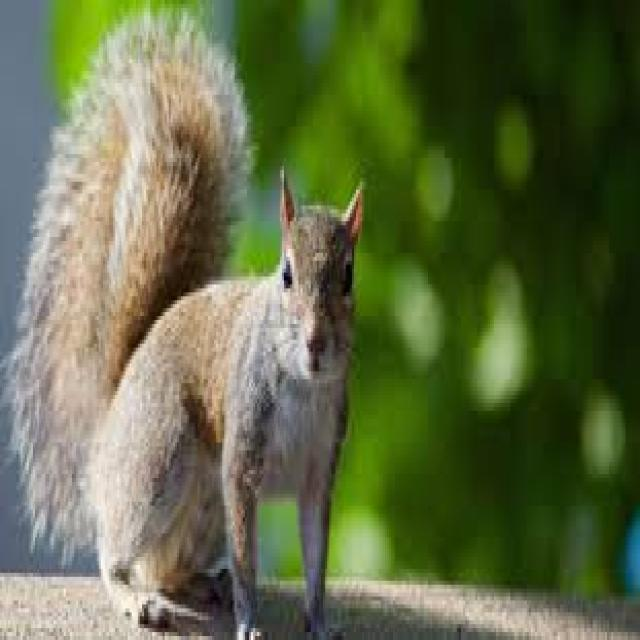Squirrel: (27, 14, 369, 628)
